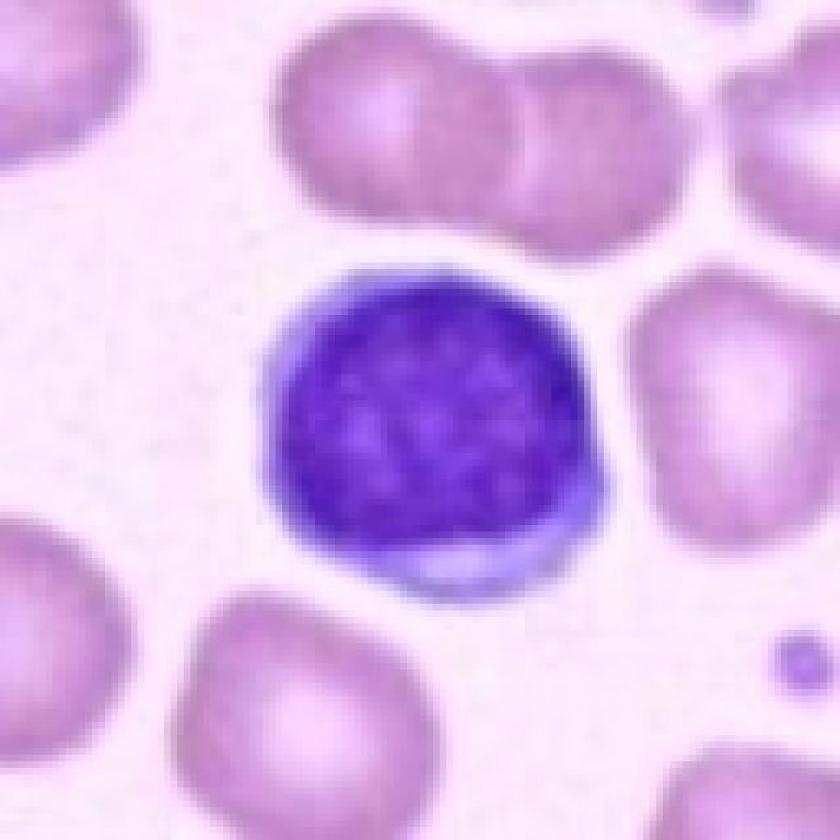lymphocyte: (252, 264, 622, 605)
